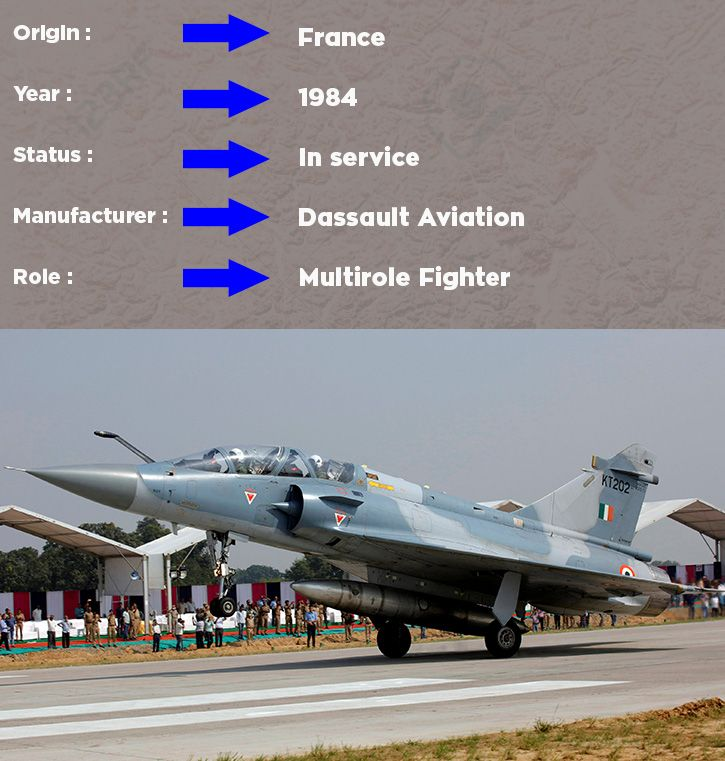Mirage2000: (3, 430, 725, 658)
